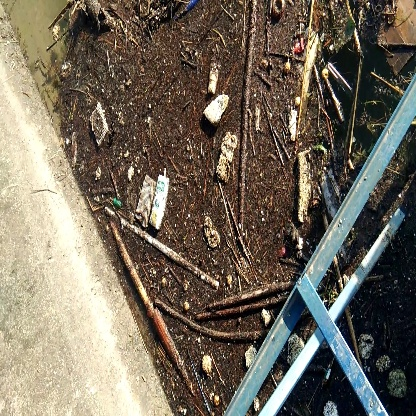branch: (235, 2, 256, 227)
